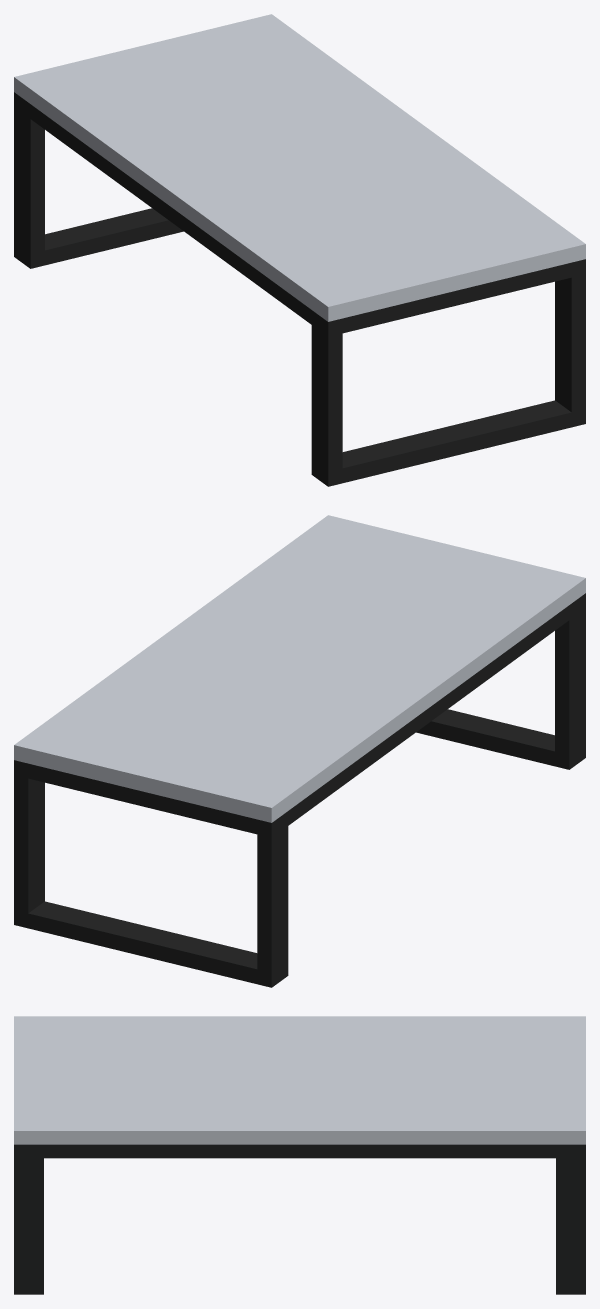
File: desk.obj
3 renders of one model, top to bottom at view 1: azimuth 30°, elevation 25°; view 2: azimuth 150°, elevation 25°; view 3: azimuth 270°, elevation 25°, orthographic. The views are drawn at different scales.
Size of the model in its own units: 1.8 by 1.2 by 3.8.
1 material, 1 textured.
